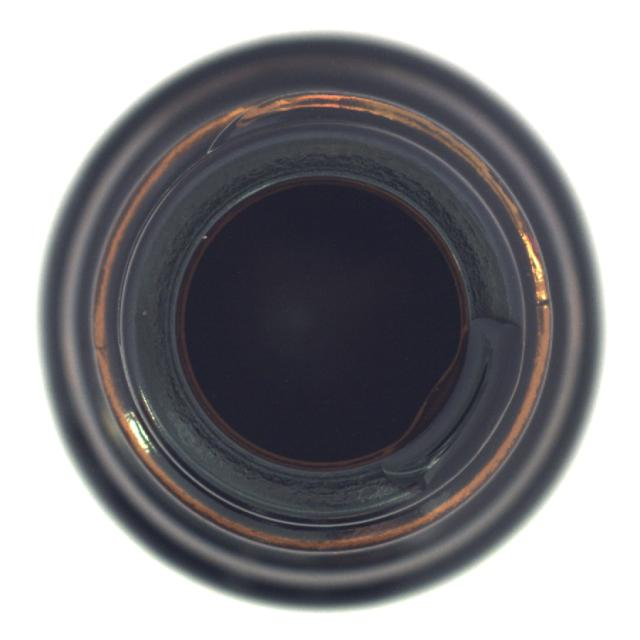bad-contamination: (35, 28, 606, 612)
